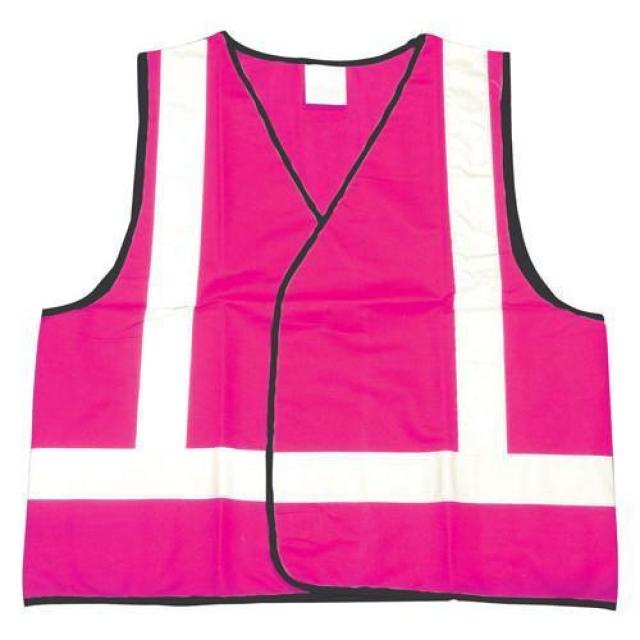Vest: (18, 27, 619, 609)
